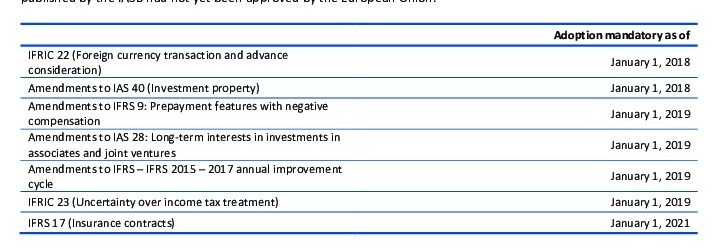table: (0, 0, 714, 249)
